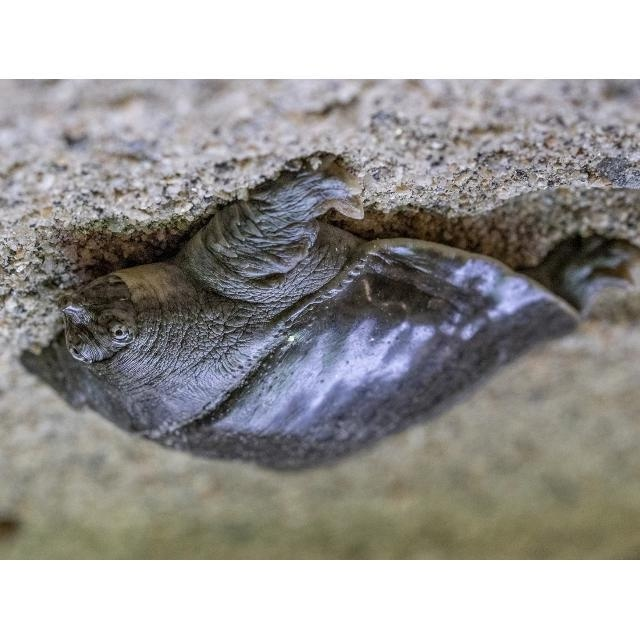turtle: (18, 155, 638, 474)
